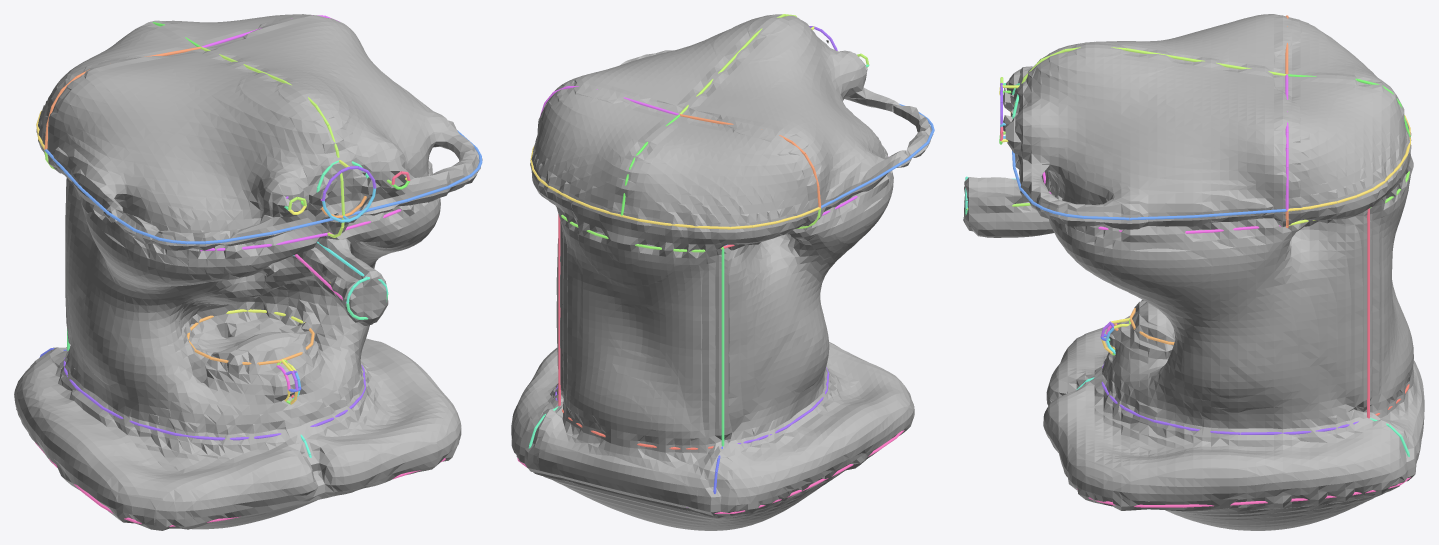
The model's file is flowsurf_expresso.gltf.
3 views of the same model, side by side, from view 1: azimuth 30°, elevation 25°; view 2: azimuth 150°, elevation 25°; view 3: azimuth 270°, elevation 25° (orthographic). The views are drawn at different scales.
Size of the model in its own units: 0.5447 by 0.7092 by 0.6389.
